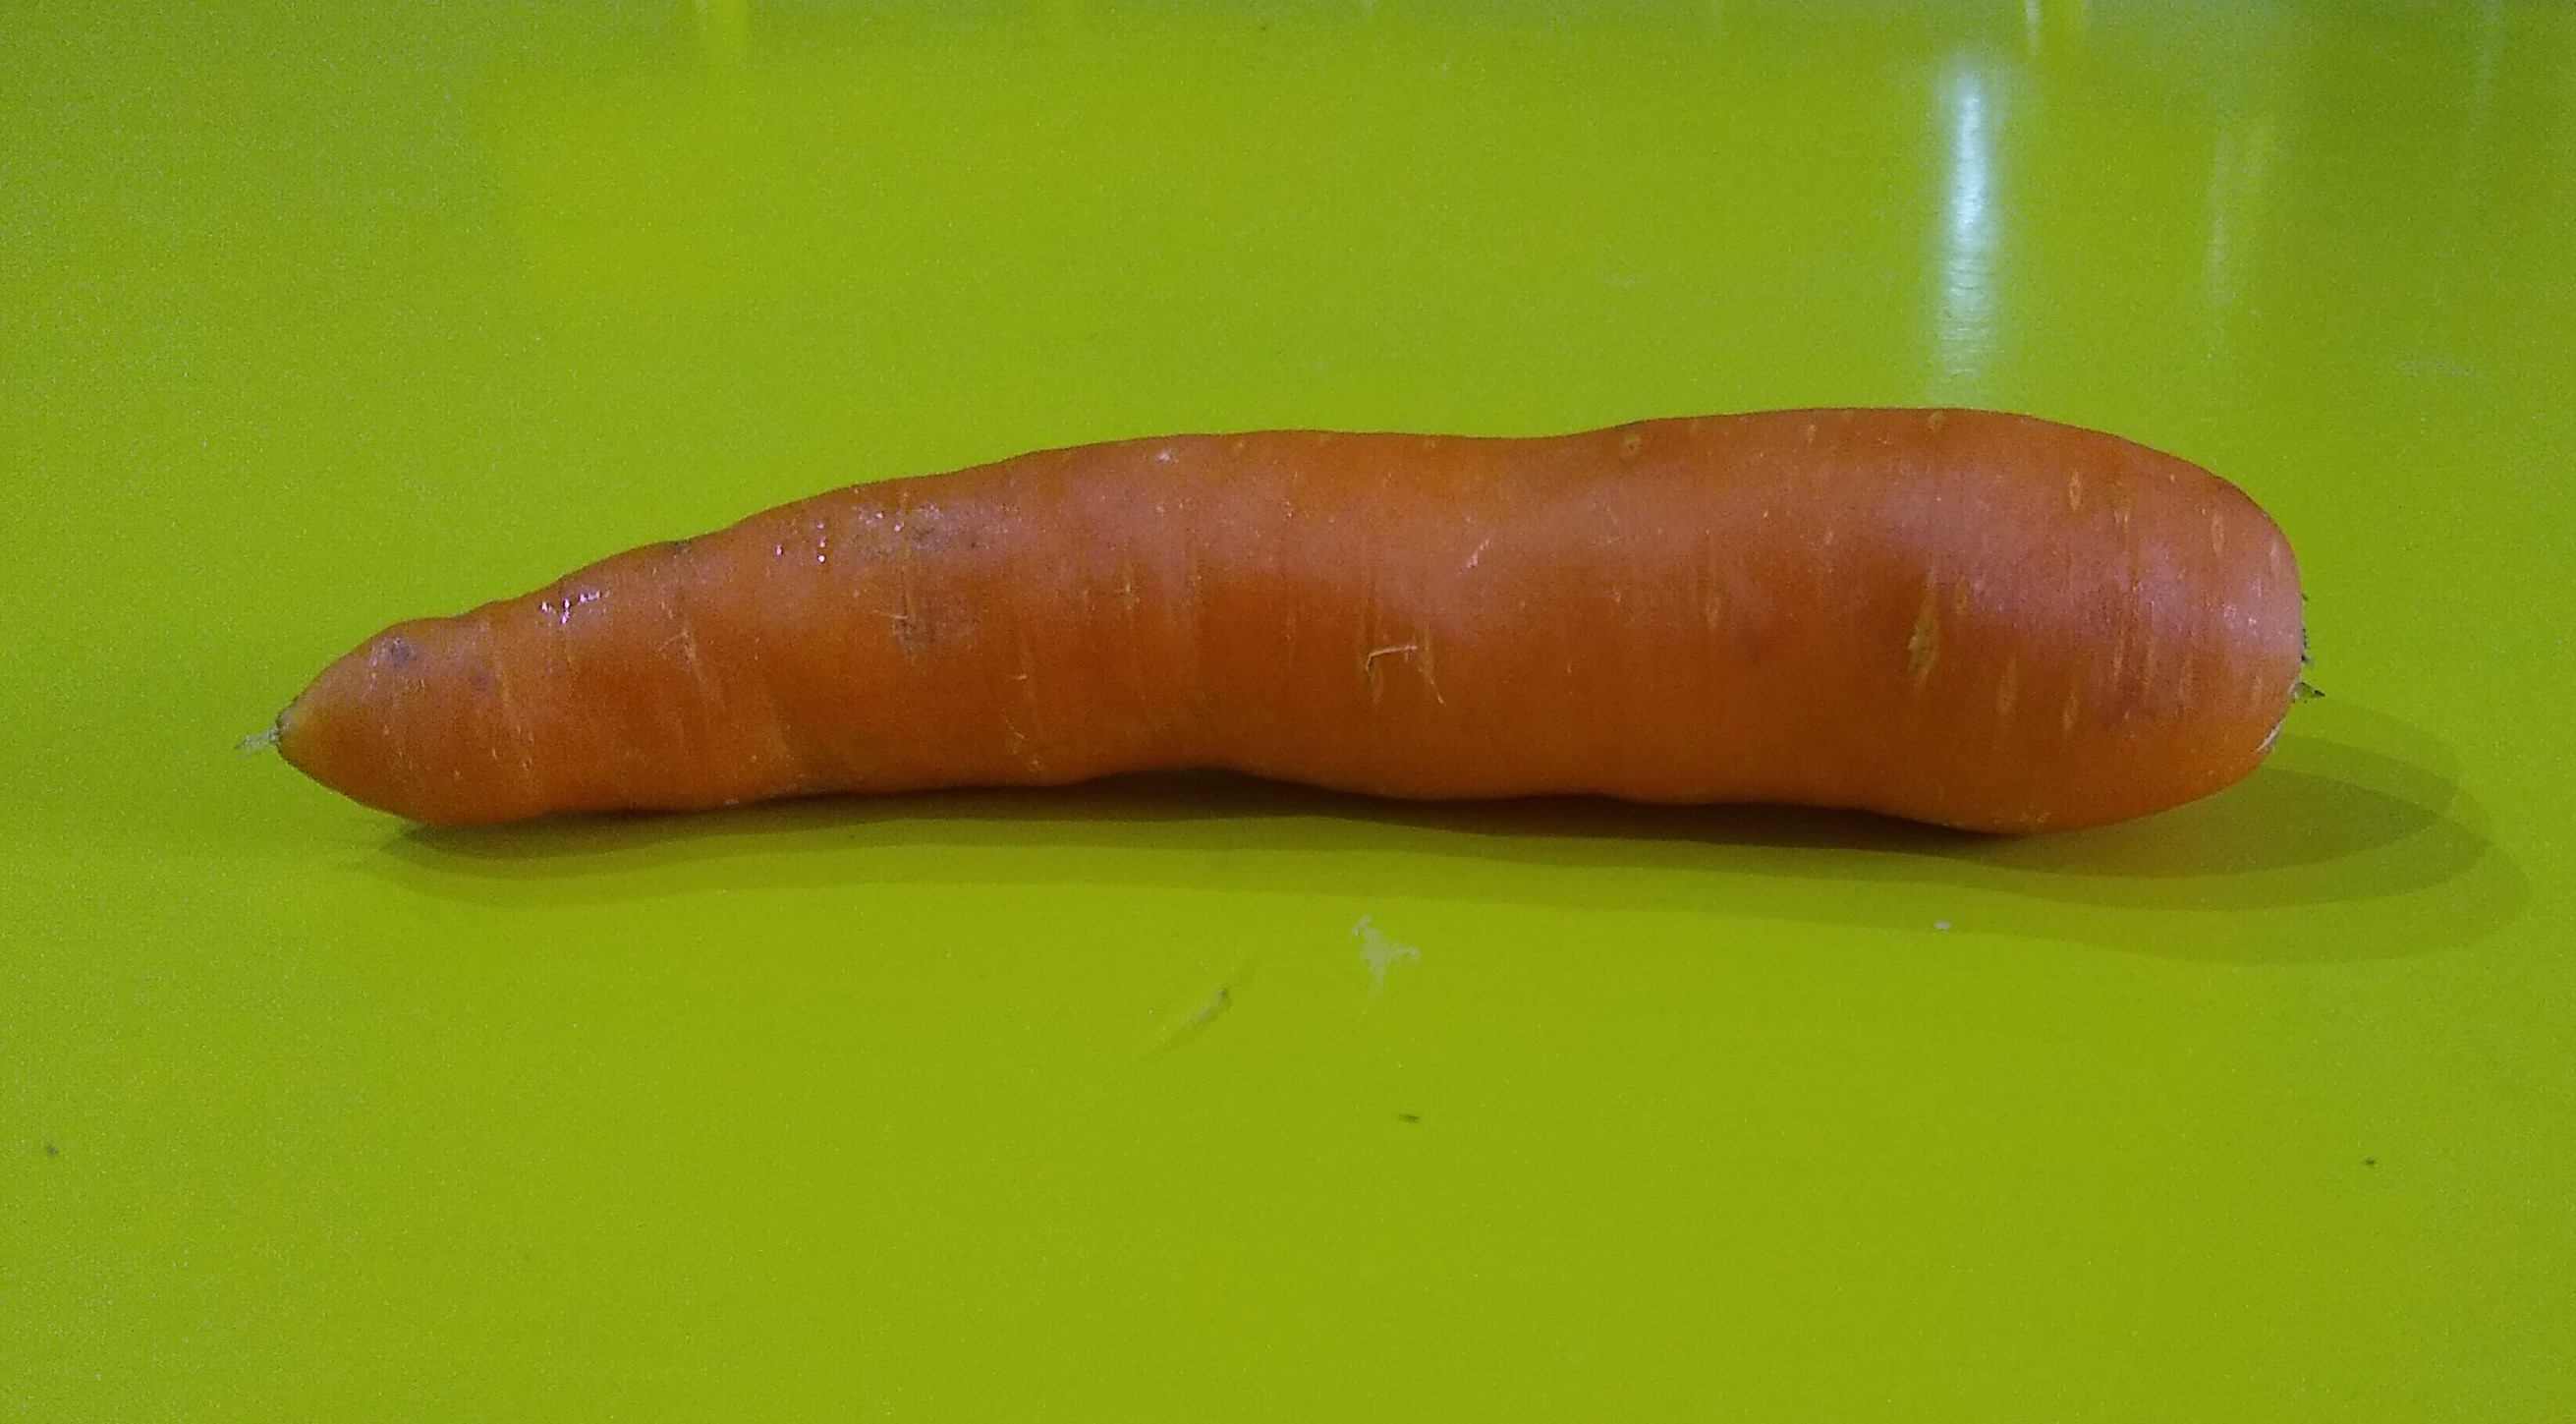Carrot: (257, 383, 2344, 872)
